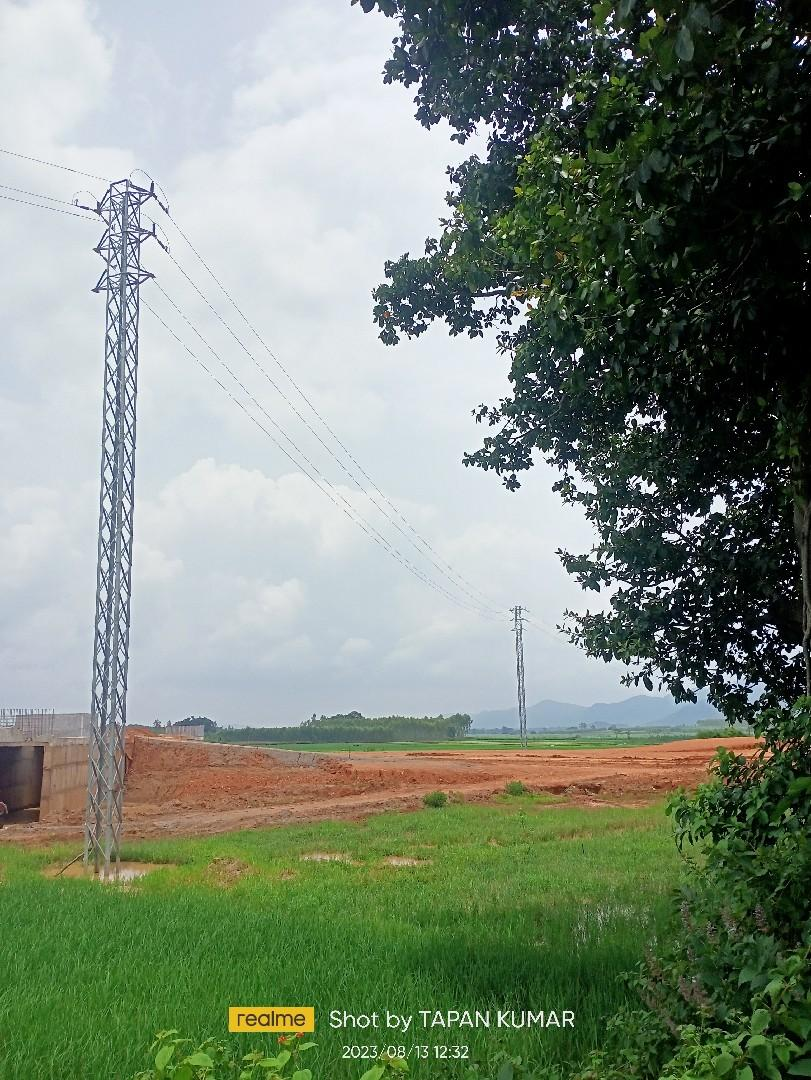Microwave Antenna: (80, 176, 163, 854)
